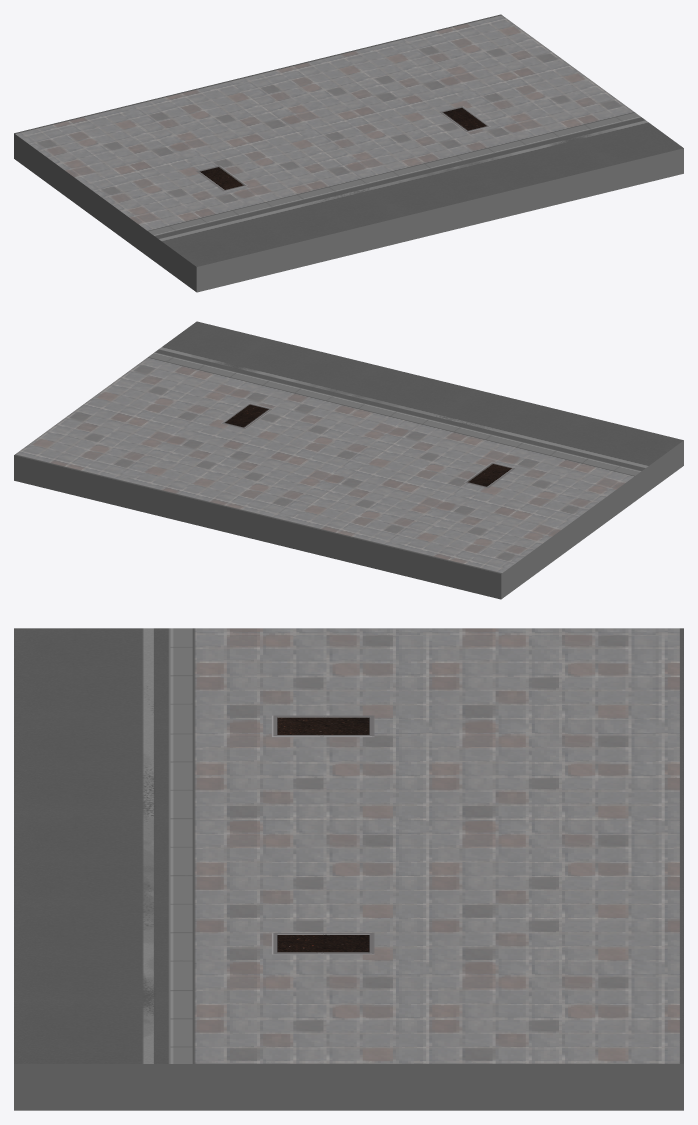
Rendered from mini_ground.dae.
The picture shows the model from 3 angles, top to bottom: view 1: azimuth 30°, elevation 25°; view 2: azimuth 150°, elevation 25°; view 3: azimuth 270°, elevation 25°; orthographic projection. The views are drawn at different scales.
Parts seen in each view (by area): view 1: ground, road; view 2: ground, road; view 3: ground, road.
Boxes of the visible parts, x1,y1,x2,y2 form: ground: [14, 14, 641, 261]; road: [154, 117, 683, 292]; ground: [14, 352, 641, 599]; road: [155, 321, 683, 496]; ground: [168, 628, 683, 1110]; road: [14, 628, 168, 1110].
Size of the model in its own units: 20 by 1 by 13.
